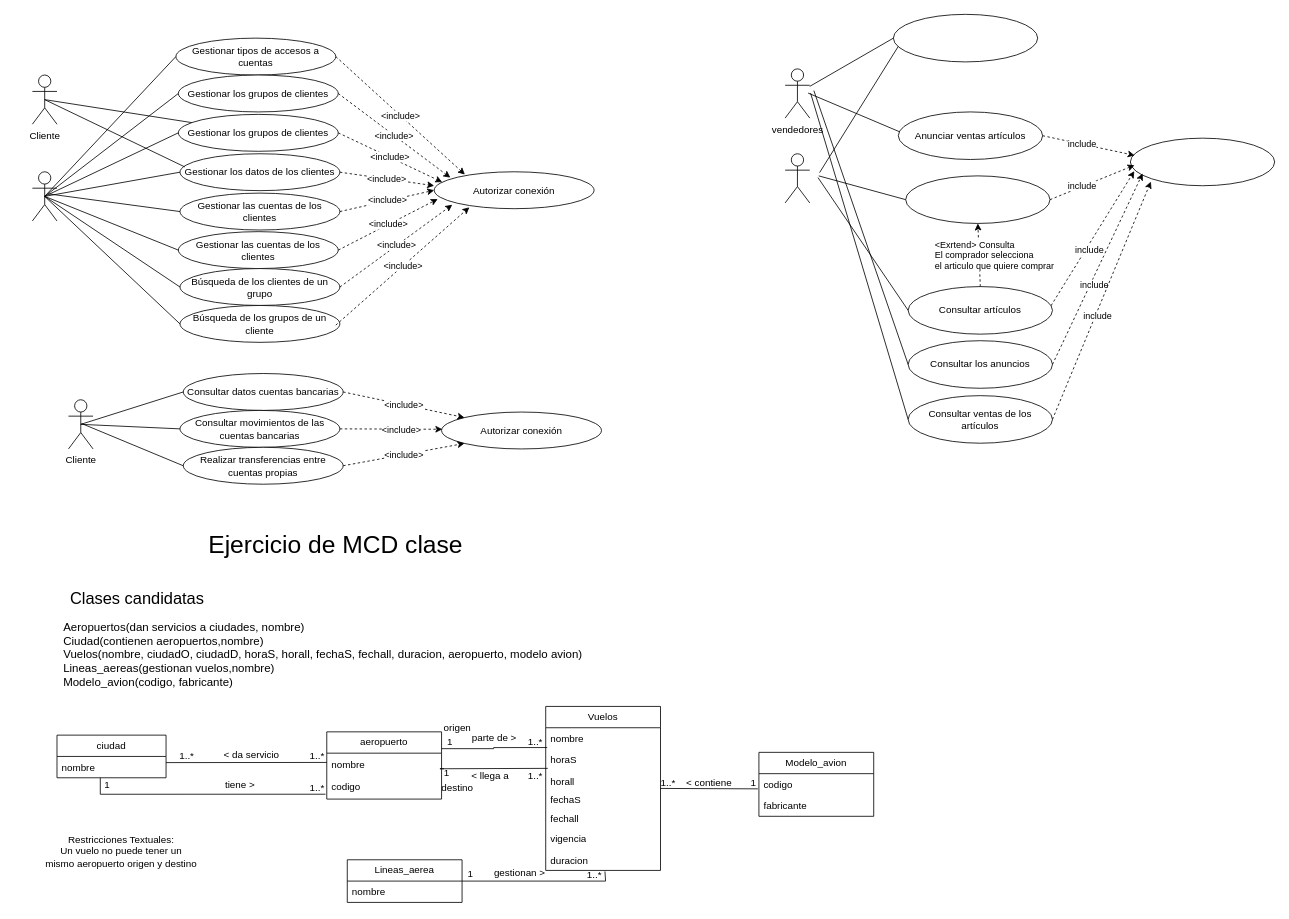
This 1289x919 diagram has some shape labels left out. Each missing label, with the centre of its shape:
"Administrador" belongs at pixel 44 196.
"compradores" belongs at pixel 797 178.
"Comprar artículos P.E: Consulta" belongs at pixel 977 199.
"Registrar Usuario" belongs at pixel 965 38.
"Validar Usuario registrado" belongs at pixel 1202 161.
